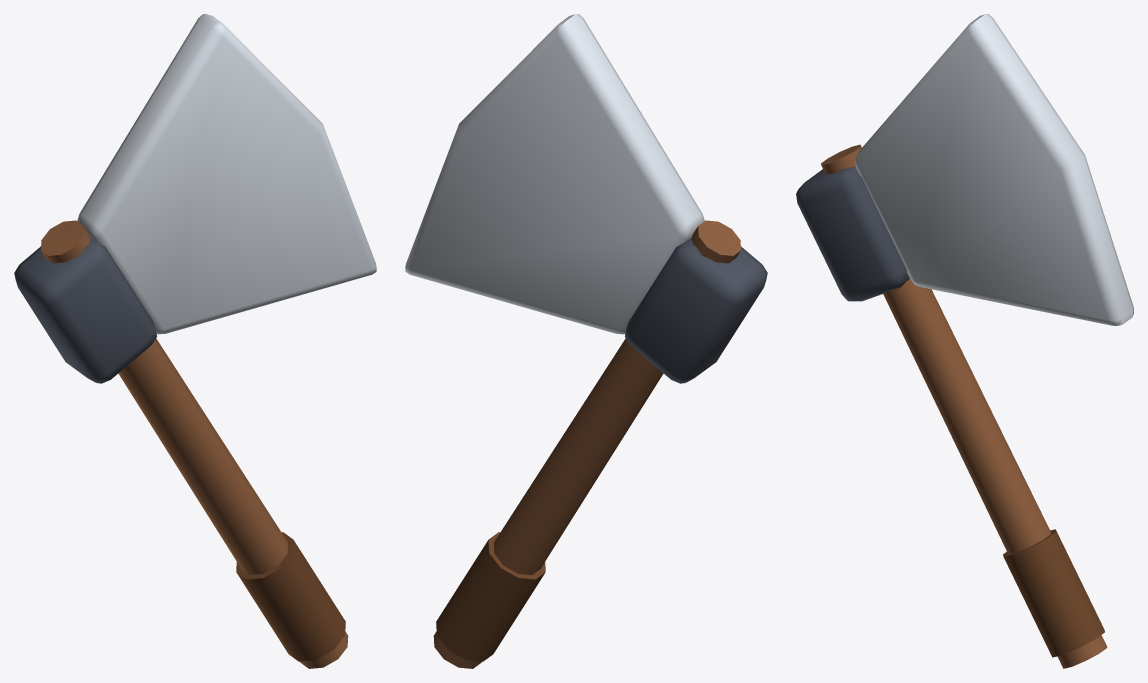
File: icon_axe.glb
The picture shows the model from 3 angles, left to right: view 1: azimuth 30°, elevation 25°; view 2: azimuth 150°, elevation 25°; view 3: azimuth 330°, elevation 25°; orthographic projection. The views are drawn at different scales.
Visible parts, largest first — view 1: Axe; view 2: Axe; view 3: Axe.
Boxes of the visible parts, x1,y1,x2,y2 form: Axe: (14,14,376,668); Axe: (405,14,767,668); Axe: (796,14,1133,668).
Bounding box in the file's own units: 0.7198 × 1.34 × 0.14.
Materials: 1 (1 with a texture image).
